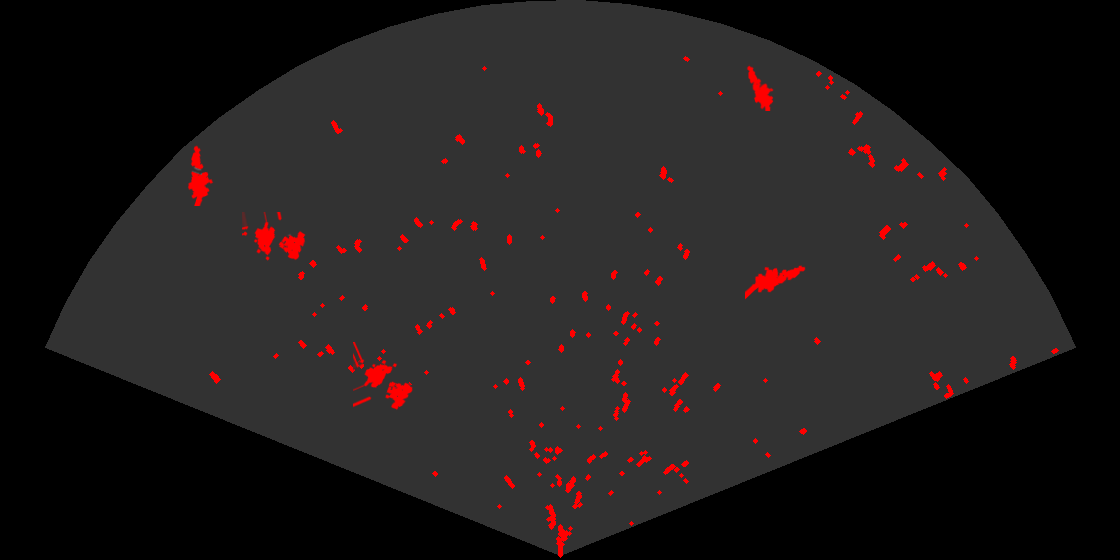cage: (353, 342, 414, 412), (242, 212, 307, 262)
frogman: (745, 264, 807, 301), (186, 144, 215, 206), (745, 64, 775, 111)
